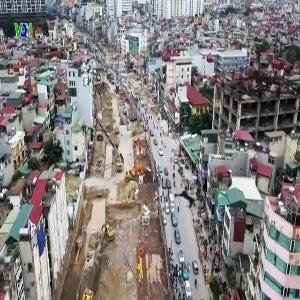drone: (158, 164, 225, 231)
